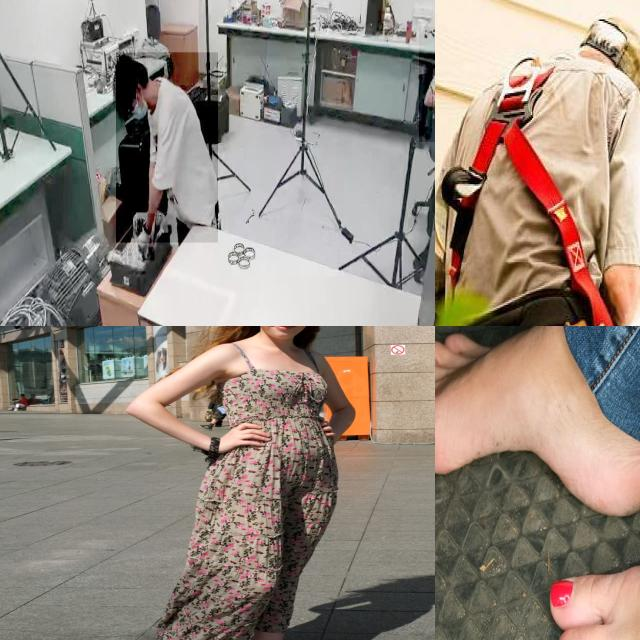Barefoots: (435, 332, 640, 517)
Harness: (442, 61, 613, 326)
face_mask: (132, 96, 152, 125)
hand_glove: (137, 213, 155, 261)
head_nohelmet: (114, 56, 146, 82)
person: (116, 52, 218, 244), (419, 26, 435, 143)
